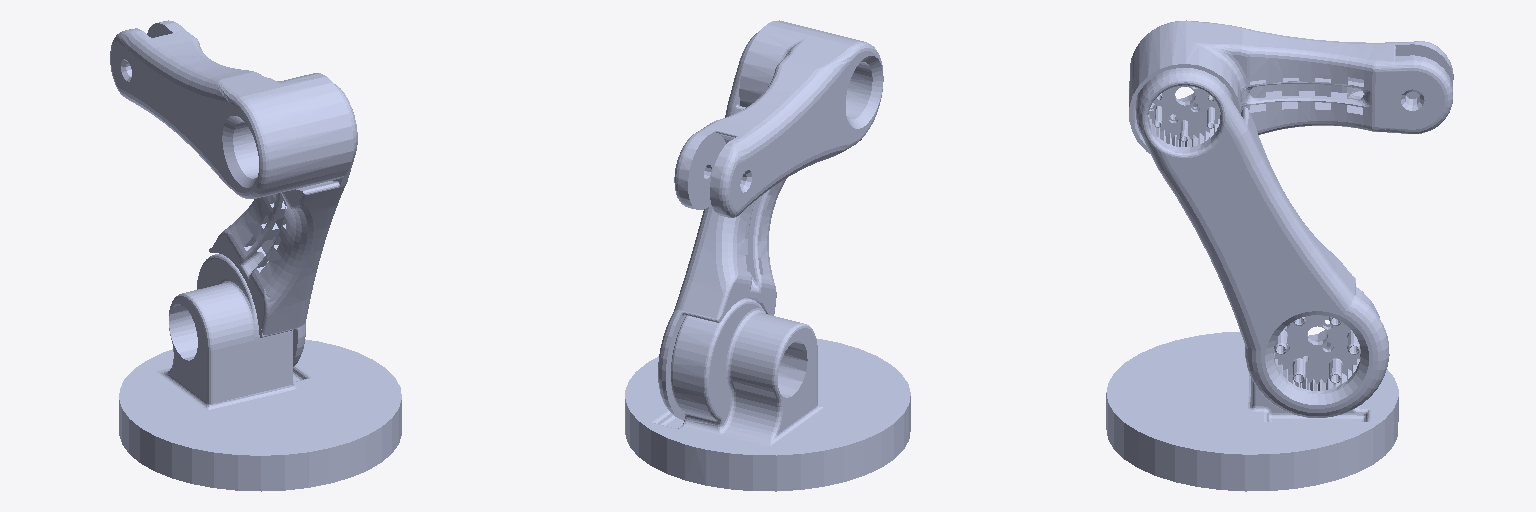
The robot description file, URDF, robot "Ensamblajefullv6":
<?xml version="1.0" encoding="utf-8"?>
<!-- This URDF was automatically created by SolidWorks to URDF Exporter! Originally created by Stephen Brawner (brawner@gmail.com) 
     Commit Version: 1.6.0-4-g7f85cfe  Build Version: 1.6.7995.38578
     For more information, please see http://wiki.ros.org/sw_urdf_exporter -->
<robot
  name="Ensamblajefullv6">
  <link name="world"/>
  <joint name="world_to_base" type="fixed">
    <parent link="world"/>
    <child link="base_link"/>
    <origin xyz="0 0 -1" rpy="-1.5708 0 0"/>
  </joint>
  <link
    name="base_link">
    <inertial>
      <origin
        xyz="0.012565 -0.015002 1.115"
        rpy="0 0 0" />
      <mass
        value="3" />
      <inertia
        ixx="0.007227"
        ixy="-9.6647E-18"
        ixz="-0.00067265"
        iyy="0.011719"
        iyz="-4.1083E-18"
        izz="0.014099" />
    </inertial>
    <visual>
      <origin
        xyz="0 0 0"
        rpy="0 0 0" />
      <geometry>
        <mesh
          filename="package://asse6/meshes/visual/base_link.STL" />
      </geometry>
      <material
        name="">
        <color
          rgba="0.79216 0.81961 0.93333 1" />
      </material>
    </visual>
    <collision>
      <origin
        xyz="0 0 0"
        rpy="0 0 0" />
      <geometry>
        <mesh
          filename="package://asse6/meshes/visual/base_link.STL" />
      </geometry>
    </collision>
  </link>
  <link
    name="BaseR">
    <inertial>
      <origin
        xyz="0.0078866 0.0026077 0.02651"
        rpy="0 0 0" />
      <mass
        value="0.25" />
      <inertia
        ixx="0.0011673"
        ixy="-1.5261E-05"
        ixz="-0.00011283"
        iyy="0.0012563"
        iyz="-2.409E-05"
        izz="0.0019548" />
    </inertial>
    <visual>
      <origin
        xyz="0 0 0"
        rpy="0 0 0" />
      <geometry>
        <mesh
          filename="package://asse6/meshes/visual/BaseR.STL" />
      </geometry>
      <material
        name="">
        <color
          rgba="0.79216 0.81961 0.93333 1" />
      </material>
    </visual>
    <collision>
      <origin
        xyz="0 0 0"
        rpy="0 0 0" />
      <geometry>
        <mesh
          filename="package://asse6/meshes/visual/BaseR.STL" />
      </geometry>
    </collision>
  </link>
  <joint
    name="R1"
    type="continuous">
    <origin
      xyz="-0.0541212640299427 -1.14500000000001 -0.0150018955467125"
      rpy="1.57079632679489 -1.56377472859413 0" />
    <parent
      link="base_link" />
    <child
      link="BaseR" />
    <axis
      xyz="0 0 1" />
  </joint>
  <link
    name="Arm1">
    <inertial>
      <origin
        xyz="-0.020414 -6.1851E-05 0.082682"
        rpy="0 0 0" />
      <mass
        value="0.15" />
      <inertia
        ixx="0.0010516"
        ixy="1.5848E-07"
        ixz="-1.1229E-05"
        iyy="0.00096052"
        iyz="1.6129E-07"
        izz="0.00013862" />
    </inertial>
    <visual>
      <origin
        xyz="0 0 0"
        rpy="0 0 0" />
      <geometry>
        <mesh
          filename="package://asse6/meshes/visual/Arm1.STL" />
      </geometry>
      <material
        name="">
        <color
          rgba="0.79216 0.81961 0.93333 1" />
      </material>
    </visual>
    <collision>
      <origin
        xyz="0 0 0"
        rpy="0 0 0" />
      <geometry>
        <mesh
          filename="package://asse6/meshes/visual/Arm1.STL" />
      </geometry>
    </collision>
  </link>
  <joint
    name="R2"
    type="continuous">
    <origin
      xyz="0.0400000000000003 0 0.0649999999999988"
      rpy="-0.470162054989727 0 1.5707963267949" />
    <parent
      link="BaseR" />
    <child
      link="Arm1" />
    <axis
      xyz="1 0 0" />
  </joint>
  <link
    name="Arm2">
    <inertial>
      <origin
        xyz="2.4367E-06 0.052614 0.02152"
        rpy="0 0 0" />
      <mass
        value="0.1" />
      <inertia
        ixx="0.00091559"
        ixy="-1.7395E-08"
        ixz="4.0709E-09"
        iyy="0.00015629"
        iyz="-4.3557E-05"
        izz="0.00095733" />
    </inertial>
    <visual>
      <origin
        xyz="0 0 0"
        rpy="0 0 0" />
      <geometry>
        <mesh
          filename="package://asse6/meshes/visual/Arm2.STL" />
      </geometry>
      <material
        name="">
        <color
          rgba="0.79216 0.81961 0.93333 1" />
      </material>
    </visual>
    <collision>
      <origin
        xyz="0 0 0"
        rpy="0 0 0" />
      <geometry>
        <mesh
          filename="package://asse6/meshes/visual/Arm2.STL" />
      </geometry>
    </collision>
  </link>
  <joint
    name="R3"
    type="continuous">
    <origin
      xyz="0 0 0.18"
      rpy="-1.5708 -1.0832 -1.5708" />
    <parent
      link="Arm1" />
    <child
      link="Arm2" />
    <axis
      xyz="0 0 1" />
  </joint>
</robot>

--- Facts derived from the render (not from the file) ---
The picture shows the robot from 3 angles, left to right: view 1: azimuth 30°, elevation 25°; view 2: azimuth 150°, elevation 25°; view 3: azimuth 270°, elevation 25°; orthographic projection.
Model Ensamblajefullv6 with 5 links and 4 joints (3 continuous, 1 fixed), rooted at world, posed every joint at zero.
Visible links, largest first — view 1: BaseR, Arm2, Arm1; view 2: BaseR, Arm2, Arm1; view 3: BaseR, Arm1, Arm2.
Boxes of the visible links, x1,y1,x2,y2 form: BaseR: (119,254,401,491); Arm2: (110,20,353,198); Arm1: (209,84,357,366); BaseR: (625,298,910,491); Arm2: (674,20,883,217); Arm1: (658,31,786,420); BaseR: (1106,287,1398,491); Arm1: (1136,68,1389,417); Arm2: (1129,20,1453,153).
Size in the robot's own frame: 0.1798 by 0.2137 by 0.26 metres.
3 mesh visuals loaded from 4 distinct referenced files (3 binary STL); not drawn: 1 (reference not matched to a file when rendering).
